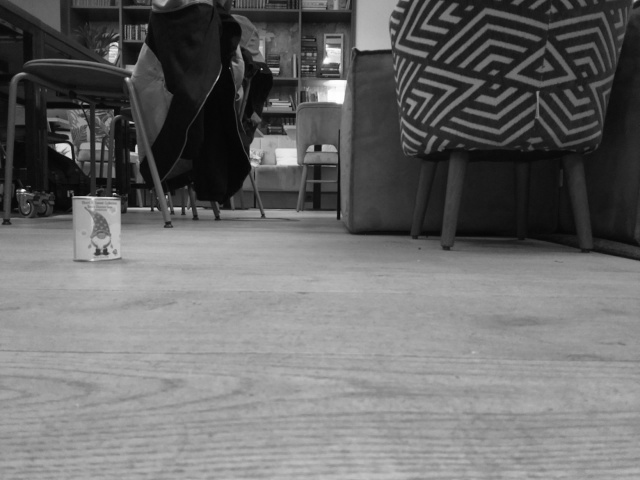gnome: (81, 206, 118, 257)
